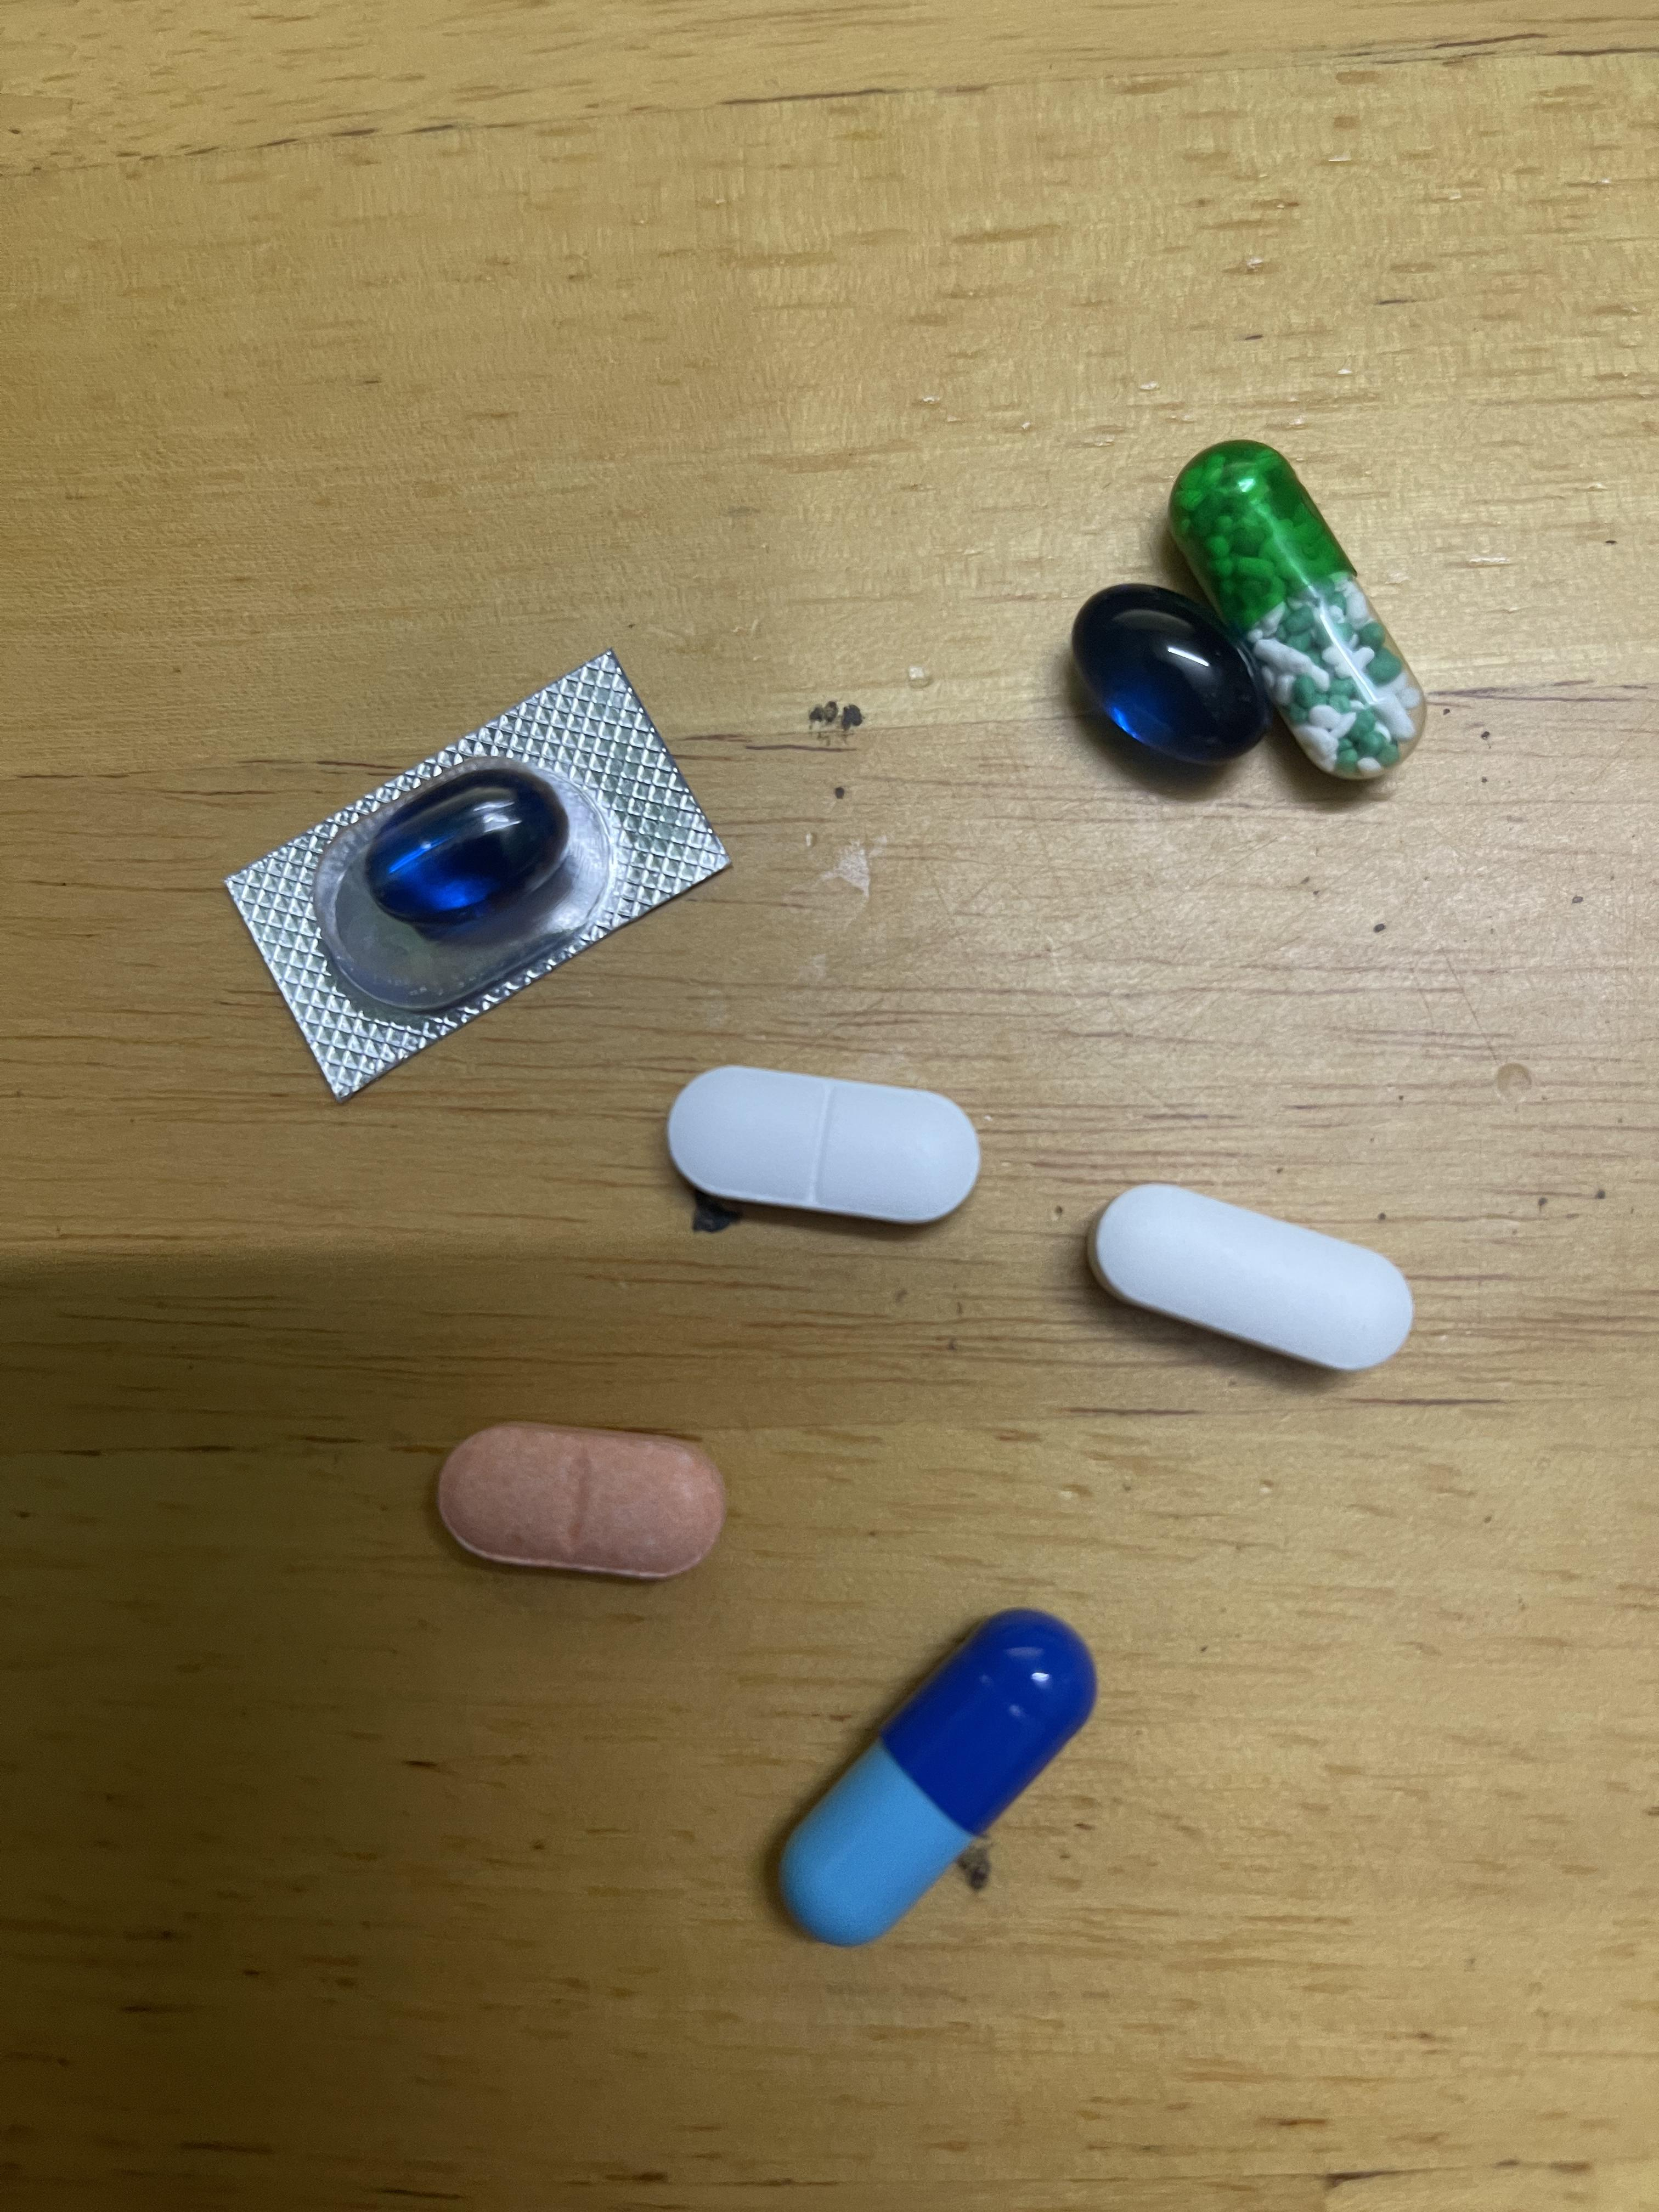Lincomyxin_500mg: (1068, 585, 1272, 768), (369, 775, 563, 928)
Loratadine_10mg: (434, 1420, 725, 1576)
Paracetamol_350mg: (667, 1061, 974, 1224)
Paracetamol_500mg: (1094, 1176, 1408, 1372)
Paracetamol_650mg: (1173, 446, 1420, 777)
pill: (774, 1609, 1082, 1956)
